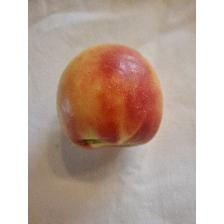Apfel: (54, 40, 164, 152)
